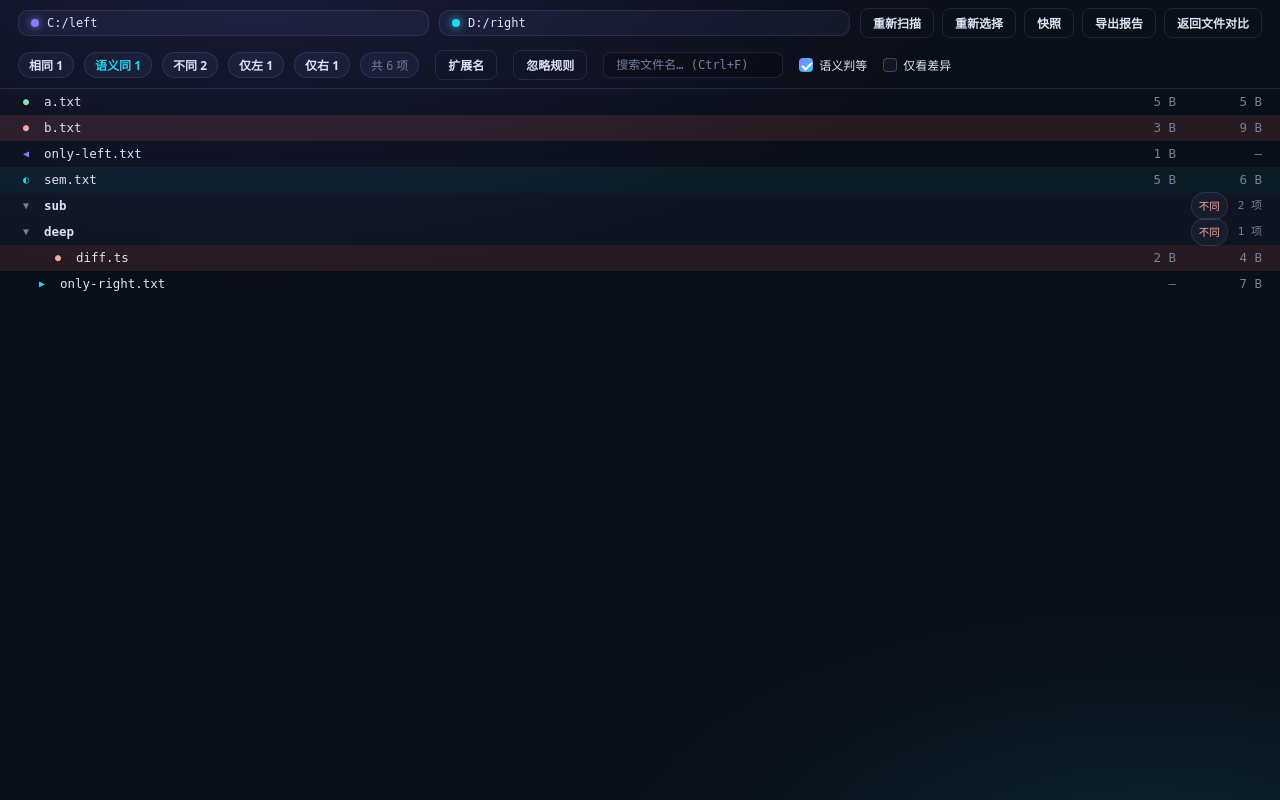
Test: FolderView - 统计徽章与过滤 › 点击徽章开启状态过滤：只看该状态且徽章激活
Click the button "不同 2" at [190, 65], box [162, 52, 218, 78]
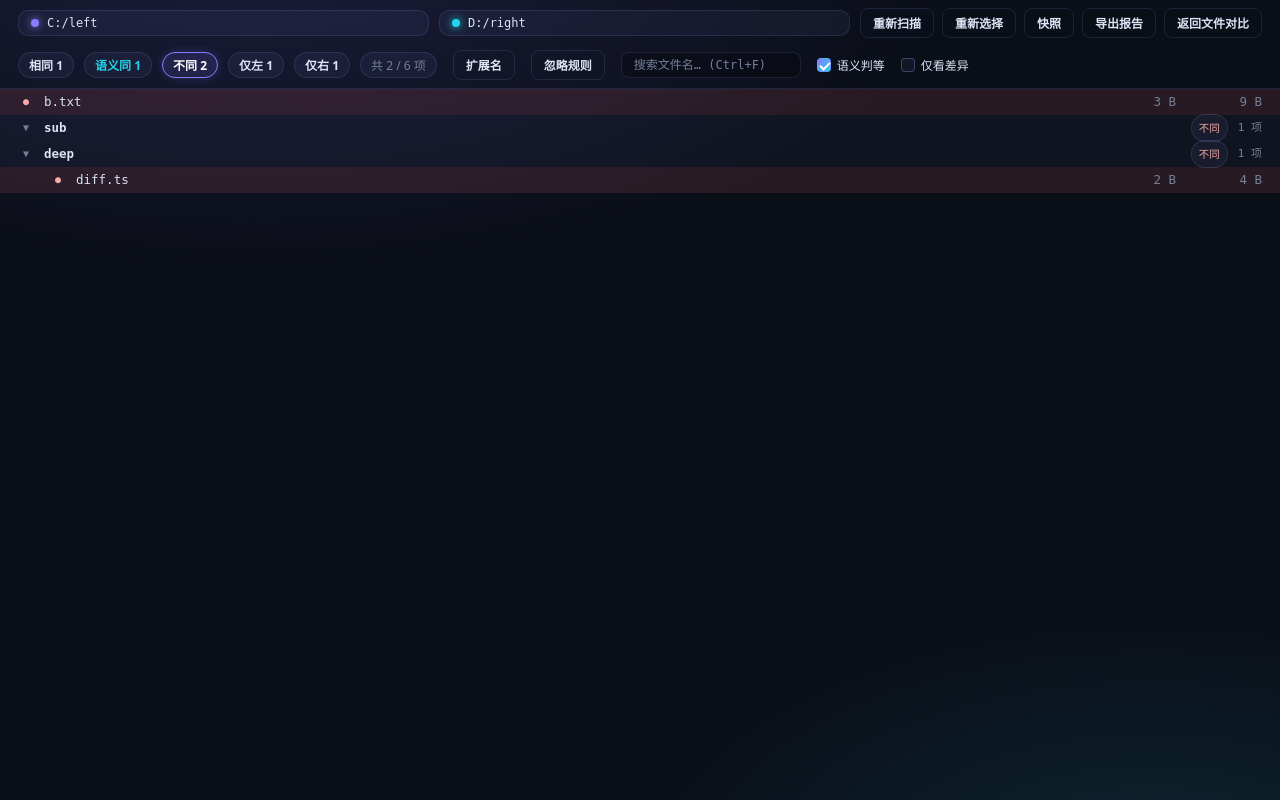
Expected: the text "b.txt" is shown, [44, 94, 82, 109]
Now the text "a.txt" is gone
Now the text "only-left.txt" is gone
# 再次点击取消过滤
Click the button "不同 2" at [190, 65], box [162, 52, 218, 78]
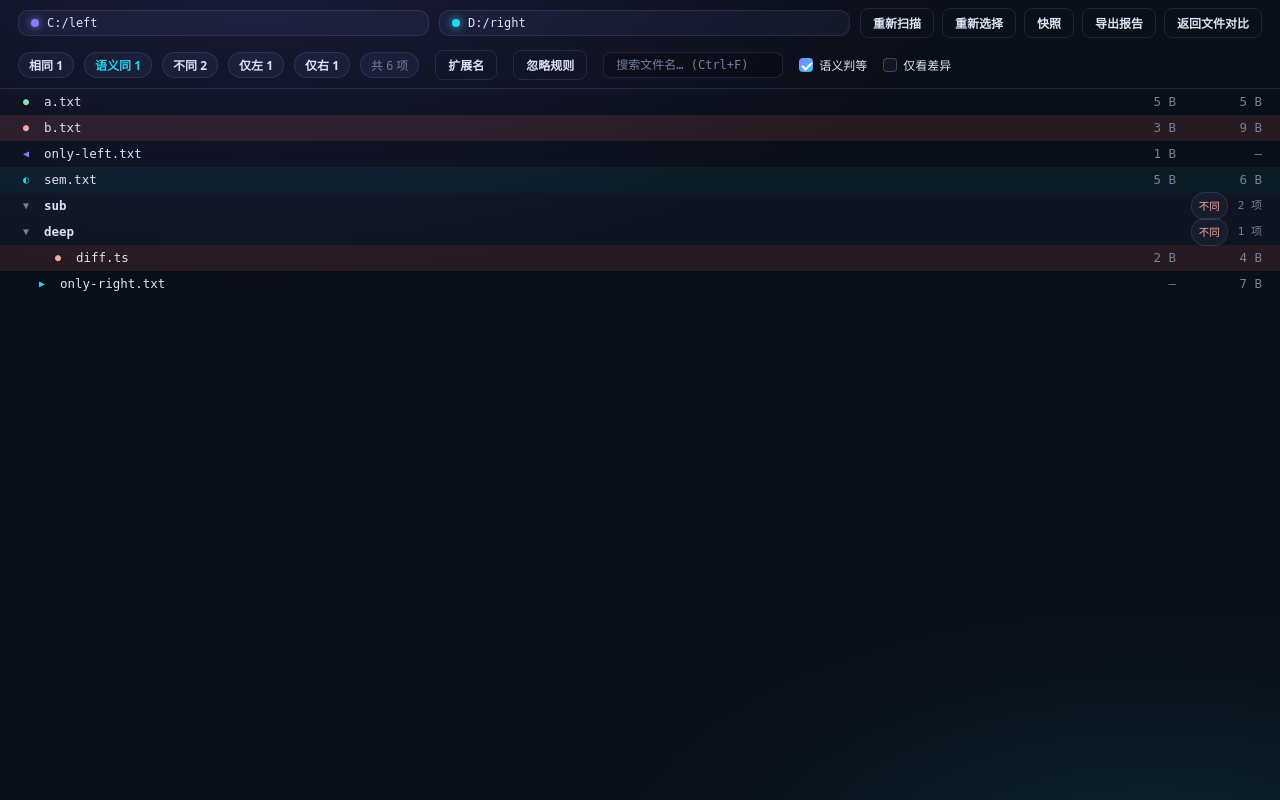
Now the text "a.txt" is shown, box [44, 94, 82, 109]
